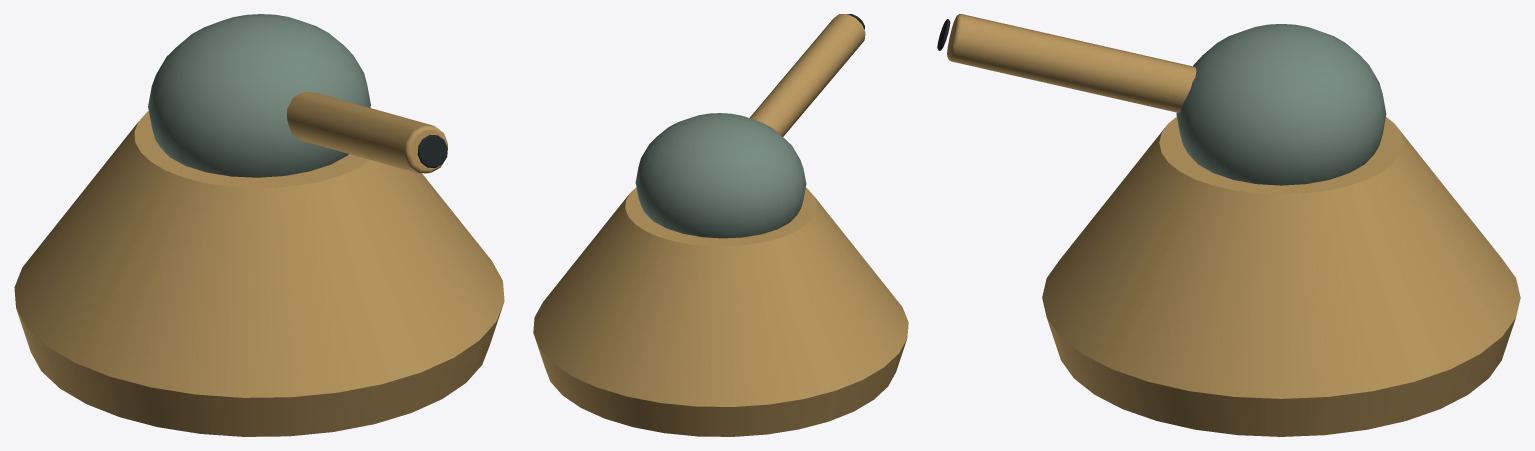
The picture shows the model from 3 angles, left to right: view 1: azimuth 30°, elevation 25°; view 2: azimuth 150°, elevation 25°; view 3: azimuth 270°, elevation 25°; orthographic projection. The views are drawn at different scales.
Parts seen in each view (by area): view 1: Turret armoured pedestal, Weapon pivot, Weapon barrel, Weapon dark bore; view 2: Turret armoured pedestal, Weapon pivot, Weapon barrel; view 3: Turret armoured pedestal, Weapon pivot, Weapon barrel.
Boxes of the visible parts, x1,y1,x2,y2 form: Turret armoured pedestal: (14, 111, 504, 436); Weapon pivot: (148, 14, 370, 177); Weapon barrel: (287, 92, 447, 173); Weapon dark bore: (417, 135, 447, 167); Turret armoured pedestal: (533, 187, 908, 436); Weapon pivot: (635, 113, 806, 238); Weapon barrel: (750, 14, 865, 136); Turret armoured pedestal: (1042, 117, 1520, 436); Weapon pivot: (1176, 24, 1386, 185); Weapon barrel: (947, 14, 1196, 112).
Bounding box in the file's own units: 1.96 × 1.47 × 2.39.
